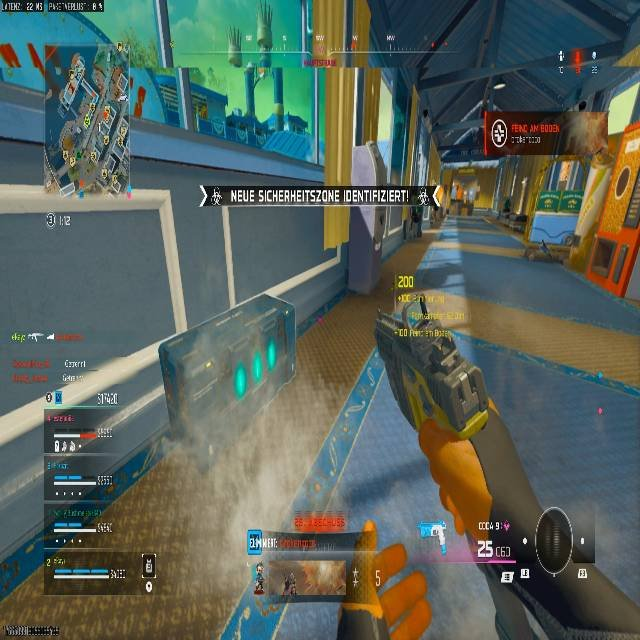player: (283, 570, 296, 595), (501, 198, 511, 221)
